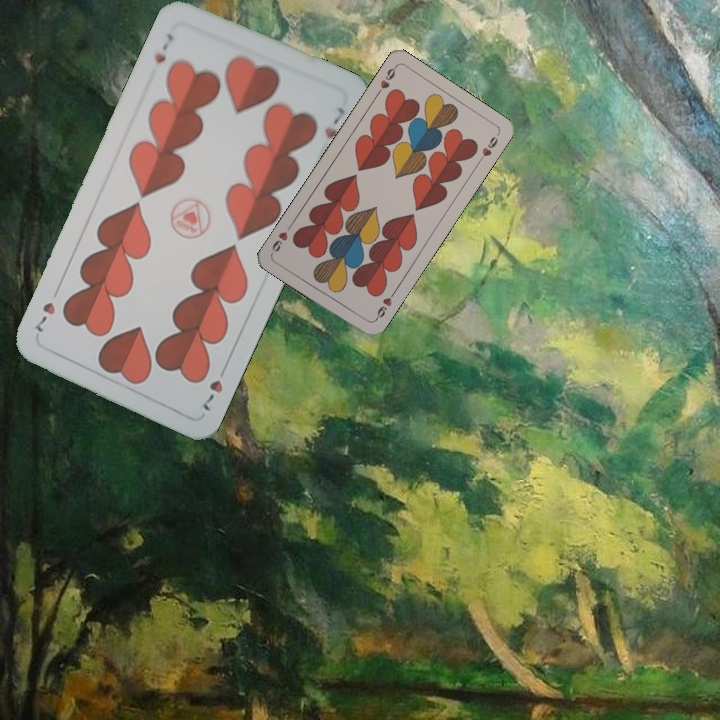H7: (198, 360, 230, 414), (150, 29, 177, 67)
H9: (372, 62, 399, 99), (371, 287, 398, 324)
